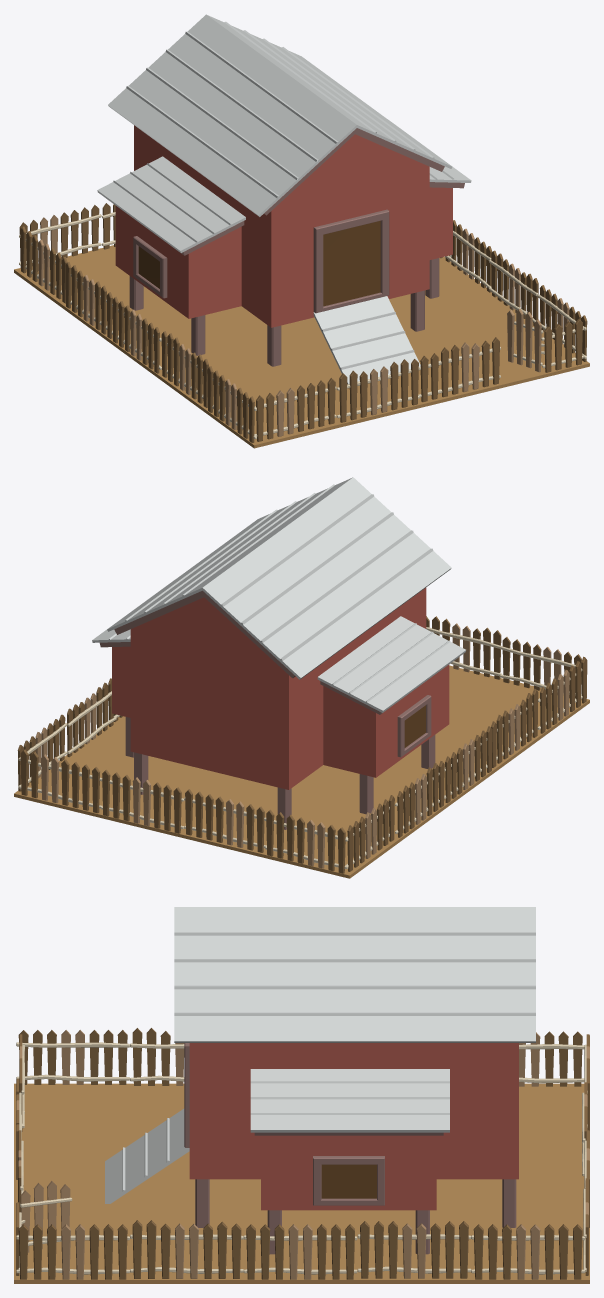
File: coop_b.gltf
The picture shows the model from 3 angles, top to bottom: view 1: azimuth 30°, elevation 25°; view 2: azimuth 150°, elevation 25°; view 3: azimuth 270°, elevation 25°; orthographic projection. The views are drawn at different scales.
Parts seen in each view (by area): view 1: Shape015, Box950, Box962, Box1029, Box961, coop_b001; view 2: Shape015, Box950, Box962, Box1029, coop_b001, Box961; view 3: Shape015, Box962, Box950, Box1029, coop_b001, Box961.
Boxes of the visible parts, box(x1,y1,x2,y2) form: Shape015: box(97, 14, 471, 384); Box950: box(115, 125, 452, 327); Box962: box(14, 245, 589, 448); Box1029: box(19, 203, 587, 443); Box961: box(129, 128, 464, 366); coop_b001: box(19, 212, 586, 439); Shape015: box(92, 477, 466, 712); Box950: box(112, 587, 449, 789); Box962: box(14, 665, 589, 878); Box1029: box(17, 616, 587, 873); coop_b001: box(18, 623, 582, 869); Box961: box(99, 590, 435, 829); Shape015: box(105, 907, 535, 1203); Box962: box(14, 1083, 589, 1283); Box950: box(189, 1043, 518, 1210); Box1029: box(16, 1028, 589, 1279); coop_b001: box(16, 1030, 589, 1279); Box961: box(184, 1043, 516, 1254).
Bounding box in the file's own units: 4.24 × 2.82 × 5.25.
Materials: 1 (1 with a texture image).
